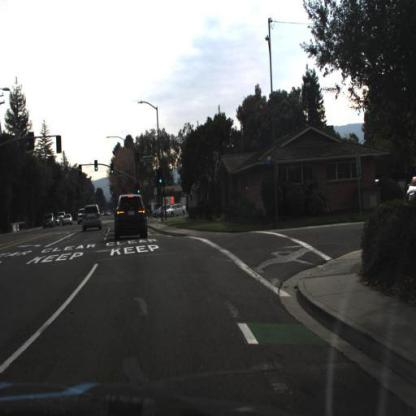car: (112, 196, 148, 242), (83, 205, 102, 231), (164, 203, 187, 221), (40, 212, 58, 230), (77, 207, 88, 228), (62, 213, 74, 229)
trafficLight-Green: (158, 171, 164, 189), (137, 185, 143, 198), (159, 176, 164, 190), (97, 159, 102, 172), (111, 163, 116, 176), (111, 164, 116, 177), (95, 161, 99, 174)
trafficLight-GreenLeft: (78, 163, 83, 181)
